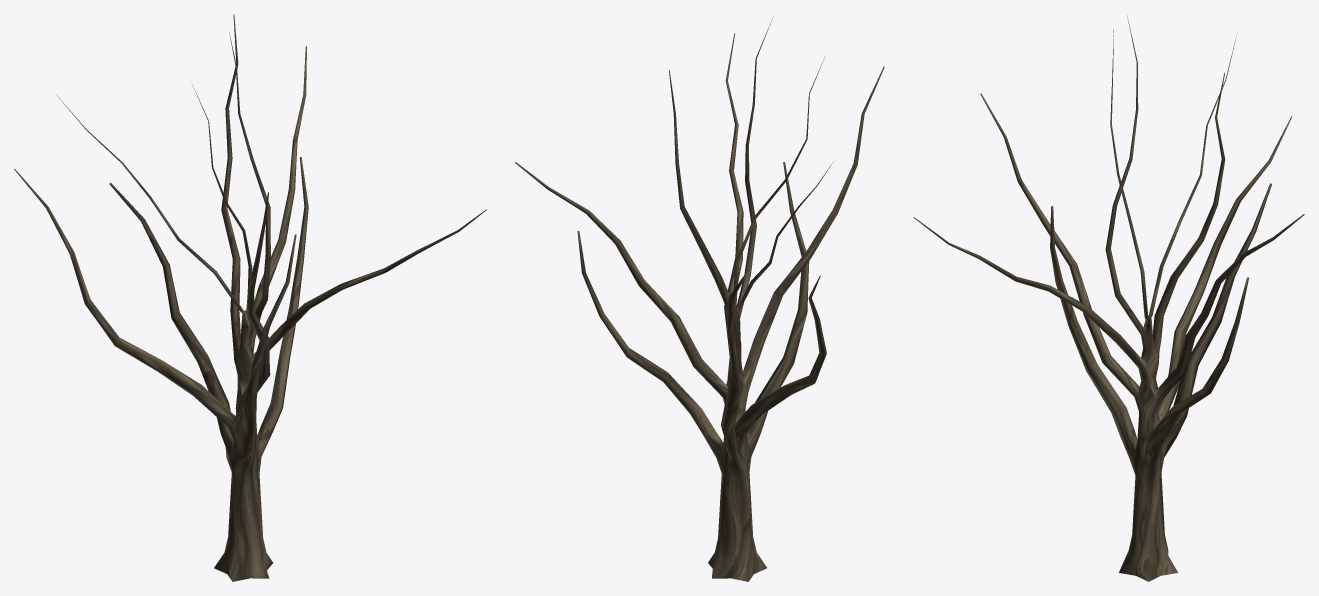
The model's file is tree-01.fbx.
The picture shows the model from 3 angles, left to right: view 1: azimuth 30°, elevation 25°; view 2: azimuth 150°, elevation 25°; view 3: azimuth 270°, elevation 25°; orthographic projection. The views are drawn at different scales.
Visible parts, largest first — view 1: tree_tree.022; view 2: tree_tree.022; view 3: tree_tree.022.
Boxes of the visible parts, x1,y1,x2,y2 form: tree_tree.022: [14, 14, 486, 581]; tree_tree.022: [515, 17, 884, 581]; tree_tree.022: [913, 15, 1304, 581].
Bounding box in the file's own units: 3.5 × 6.19 × 4.05.
